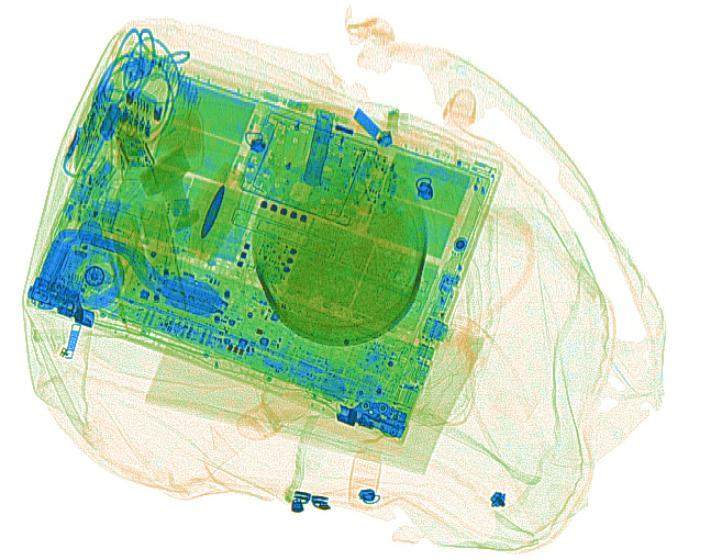battery: (300, 107, 337, 188)
seal: (136, 148, 200, 233)
